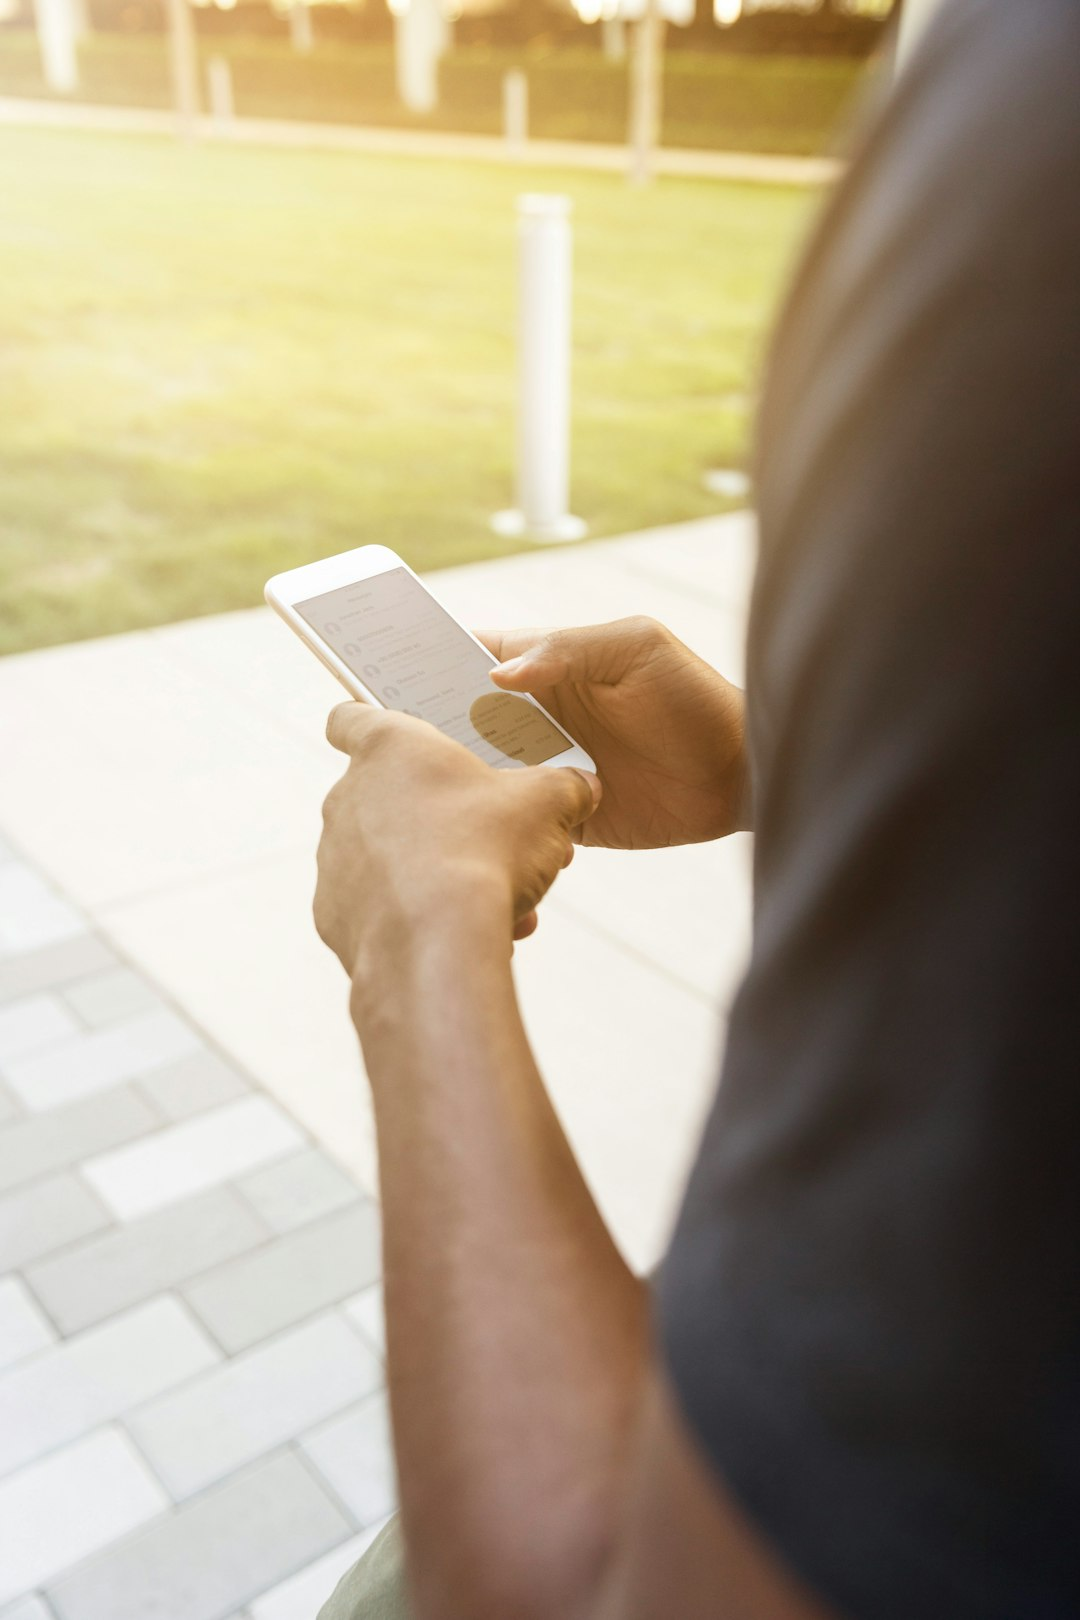phone: (262, 541, 597, 824)
